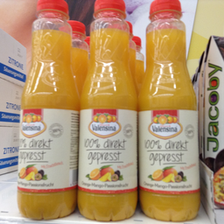juice: (136, 1, 200, 223), (78, 1, 140, 221), (19, 1, 80, 220)
